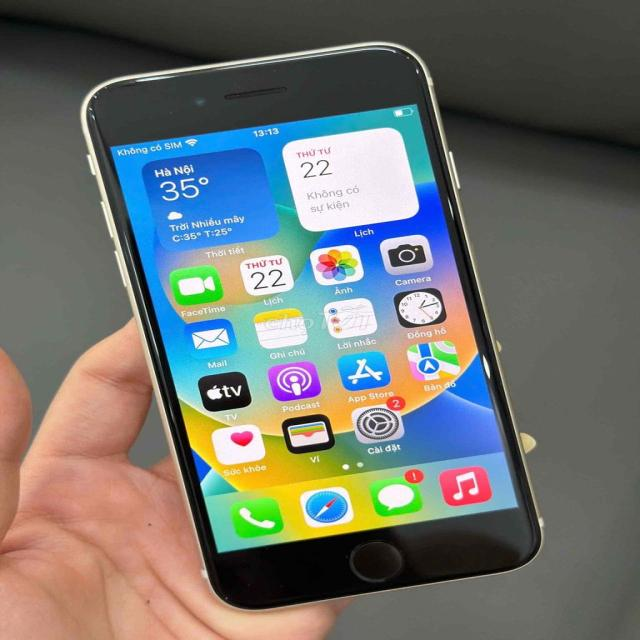scratch: (204, 57, 314, 69), (79, 84, 115, 116), (132, 72, 180, 84), (479, 356, 498, 386), (404, 49, 426, 71)
